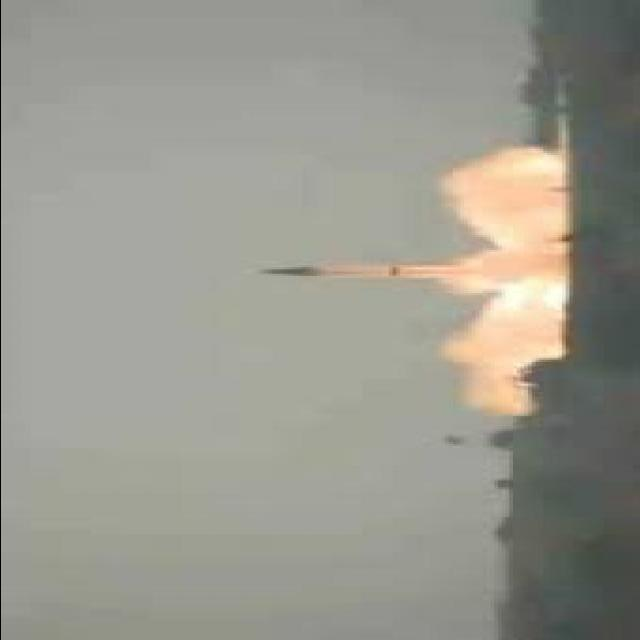missile: (259, 261, 399, 279)
